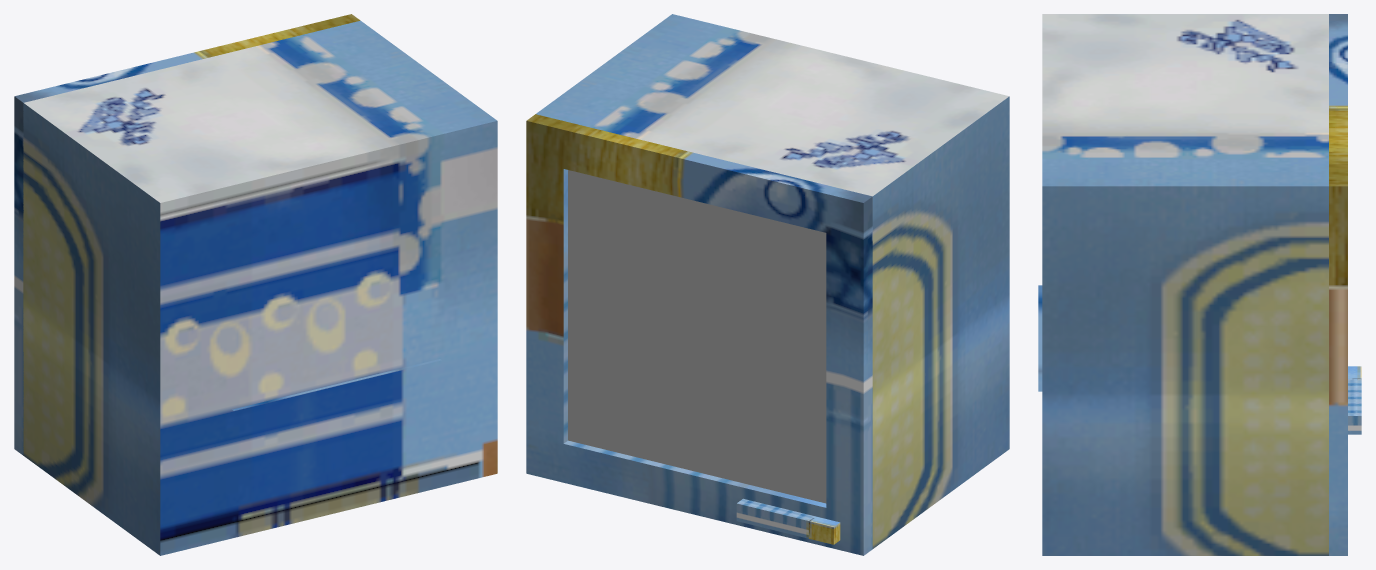
The model's file is furni_0200519.FBX.
3 views of the same model, side by side, from view 1: azimuth 30°, elevation 25°; view 2: azimuth 150°, elevation 25°; view 3: azimuth 270°, elevation 25° (orthographic). The views are drawn at different scales.
Parts seen in each view (by area): view 1: furni_0200519; view 2: furni_0200519; view 3: furni_0200519.
Part boxes in pixels (x1,y1,x2,y2): furni_0200519: (14,14,497,555); furni_0200519: (526,14,1009,555); furni_0200519: (1038,14,1361,555).
Bounding box in the file's own units: 80 × 80 × 63.4.
